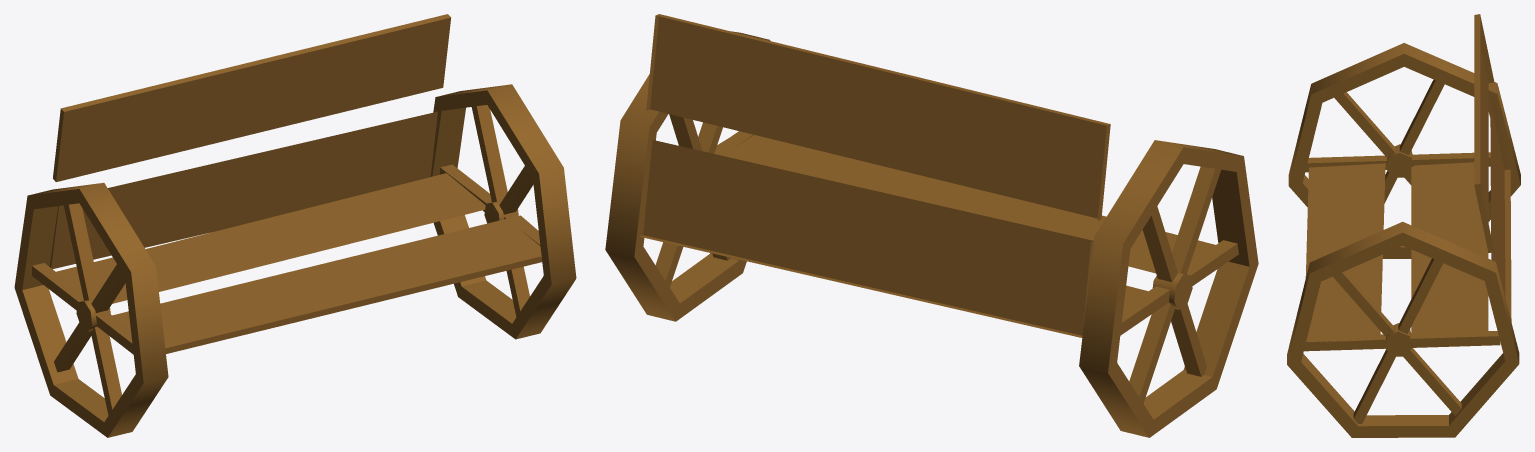
Rendered from banco.FBX.
3 views of the same model, side by side, from view 1: azimuth 30°, elevation 25°; view 2: azimuth 150°, elevation 25°; view 3: azimuth 270°, elevation 25° (orthographic). The views are drawn at different scales.
Parts seen in each view (by area): view 1: Fazenda_Banco; view 2: Fazenda_Banco; view 3: Fazenda_Banco.
Part boxes in pixels (x1,y1,x2,y2): Fazenda_Banco: [14, 14, 576, 437]; Fazenda_Banco: [605, 14, 1258, 437]; Fazenda_Banco: [1287, 14, 1520, 437].
Bounding box in the file's own units: 2.2 × 1.15 × 1.32.
